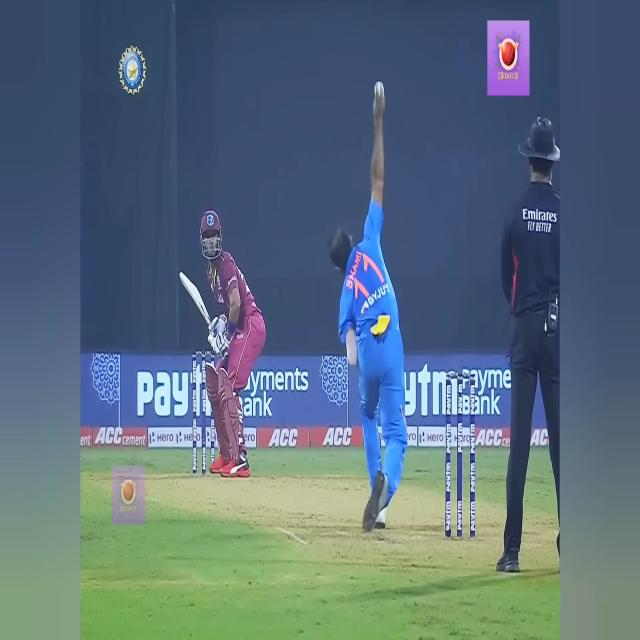partially_visible: (135, 367, 237, 425)
